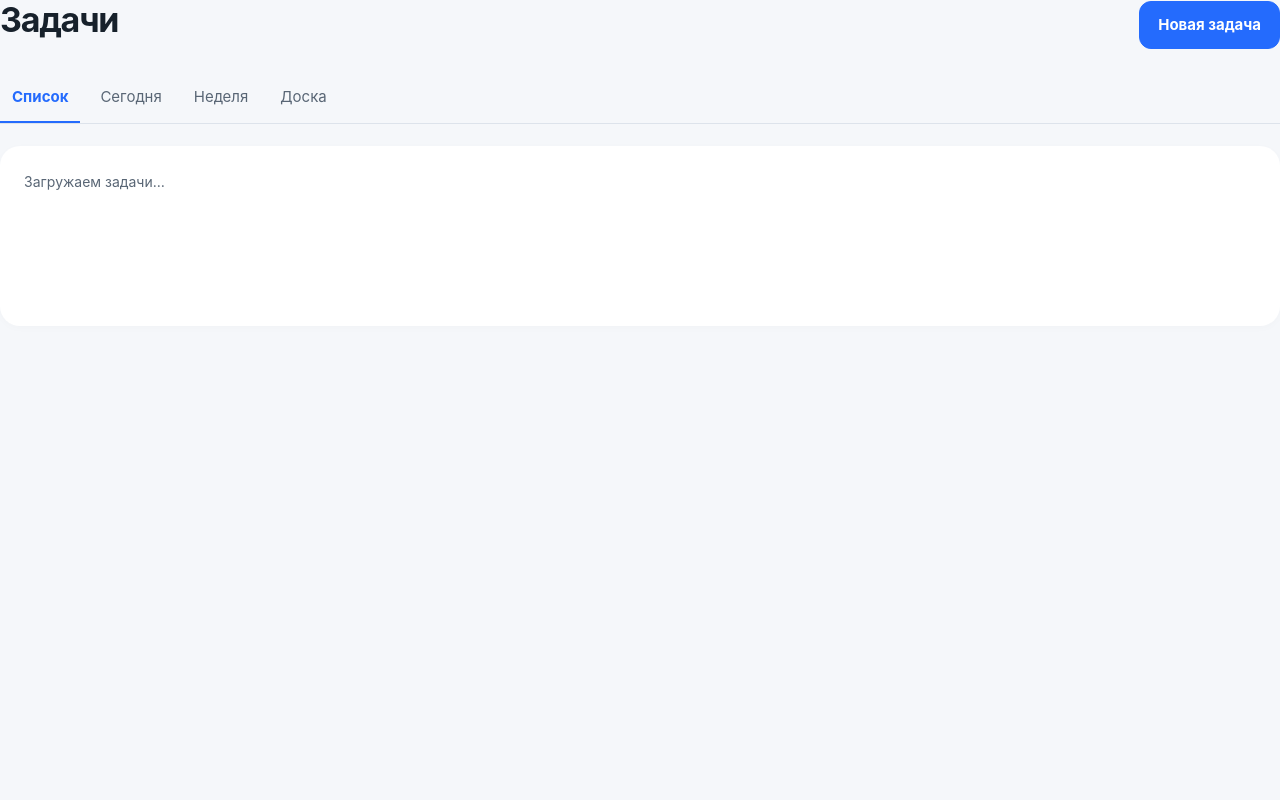
task form opens as a modal dialog for keyboard navigation
This screenshot has width=1280, height=800.
Click the button "Новая задача".
click(1210, 25)  # box top-left (1139, 1), bottom-right (1279, 49)
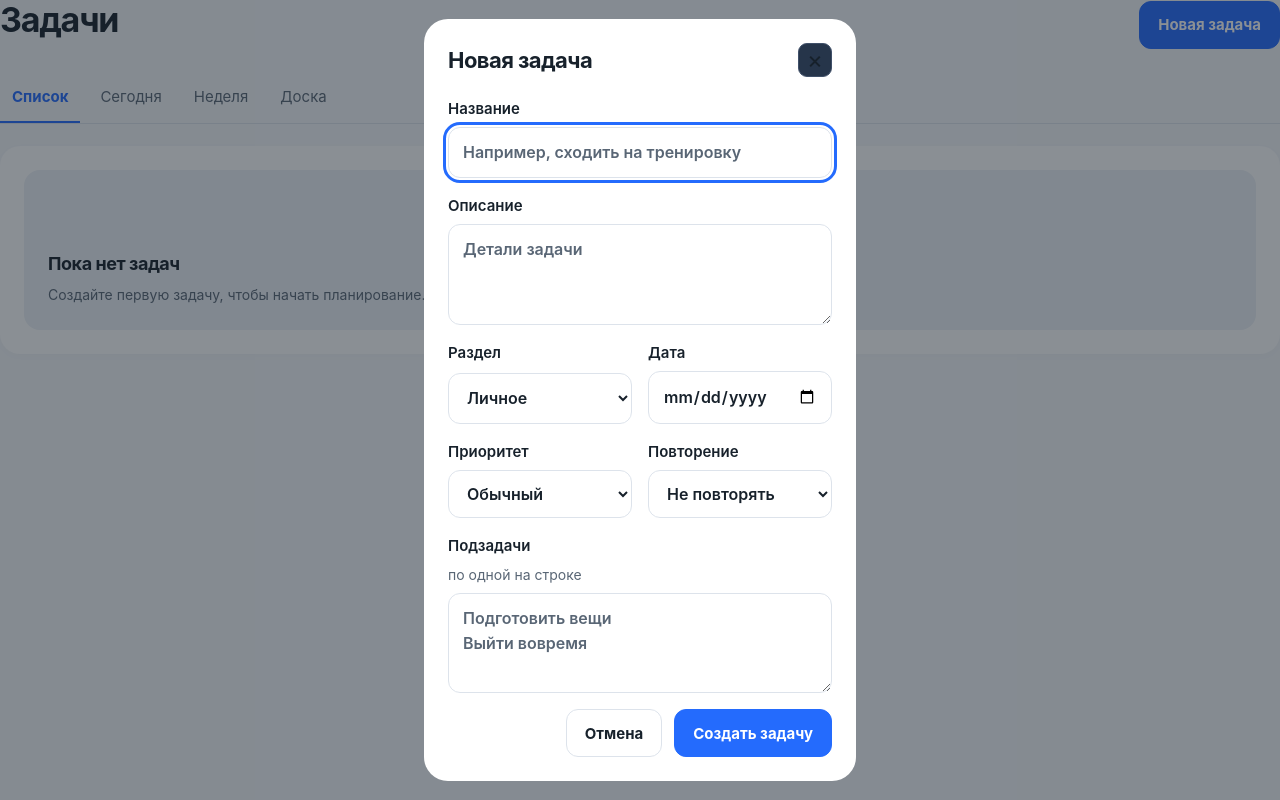
Result: the dialog named "Создание задачи" is shown at top-left (424, 19), bottom-right (856, 781)
